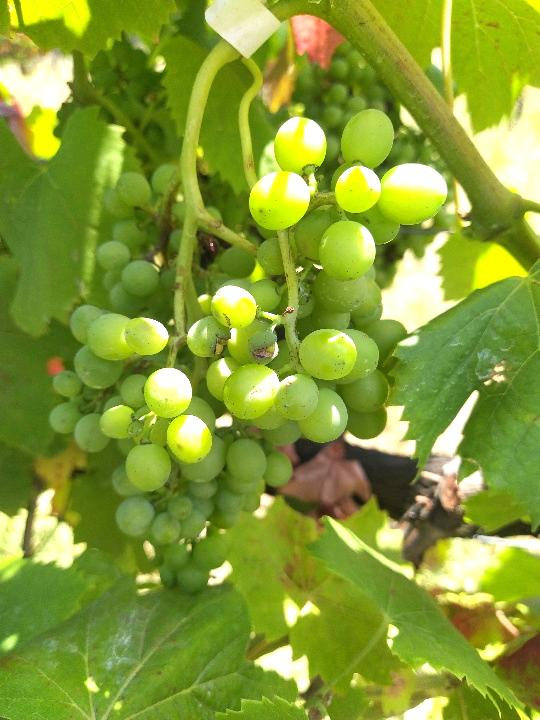grape: (45, 109, 451, 594)
